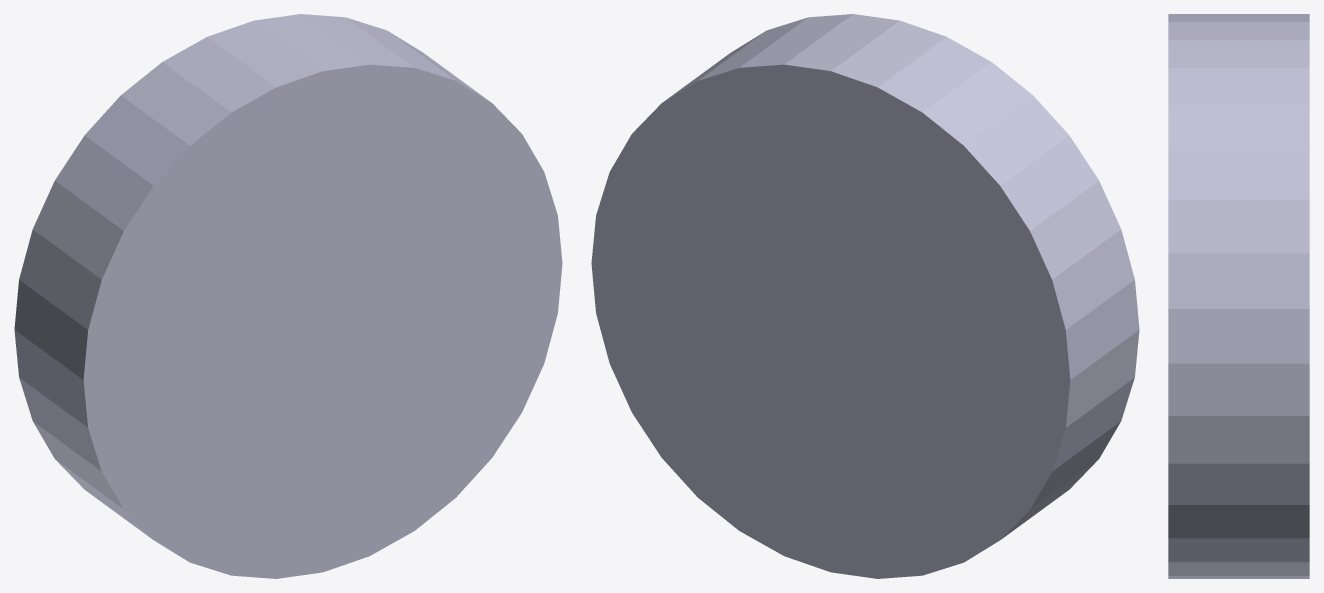
File: eyepiece-lens.glb
The picture shows the model from 3 angles, left to right: view 1: azimuth 30°, elevation 25°; view 2: azimuth 150°, elevation 25°; view 3: azimuth 270°, elevation 25°; orthographic projection. The views are drawn at different scales.
Parts seen in each view (by area): view 1: world; view 2: world; view 3: world.
Part boxes in pixels (bbox=[...]): world: bbox=[14, 14, 562, 578]; world: bbox=[591, 14, 1139, 578]; world: bbox=[1168, 14, 1309, 578].
Size of the model in its own units: 0.2 by 0.2 by 0.05.
